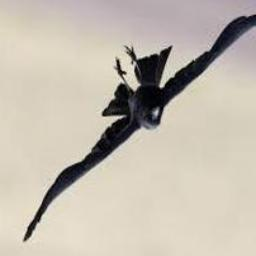Crow: (22, 9, 256, 245)
